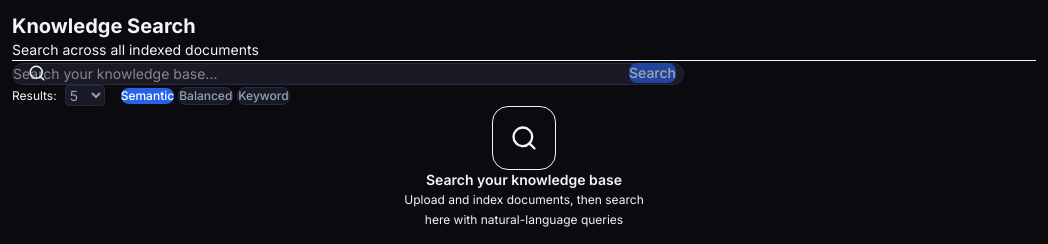
Test: SearchPage › performs search when button is clicked
Type "test query" into the field with placeholder "Search your knowledge base..." at [348, 74], box [12,63,684,85]
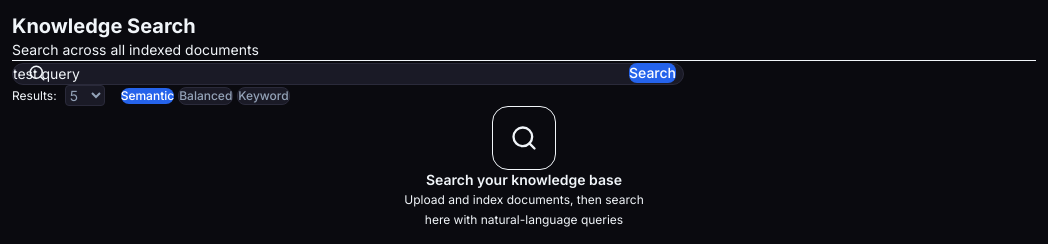
Click the button "Search" at [652, 73], box [629,63,676,83]
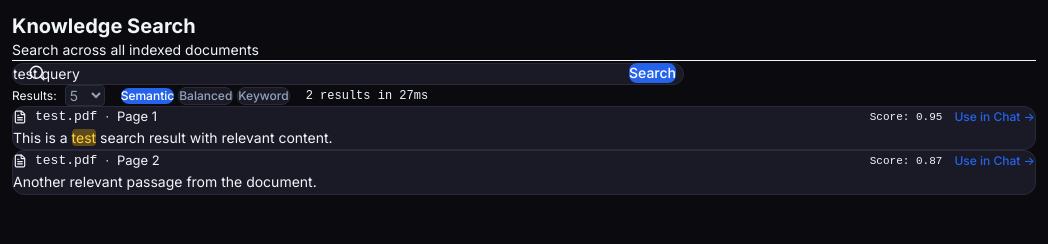
Expected: the text "This is a test search result with relevant content." is shown, [13,128,333,146]
